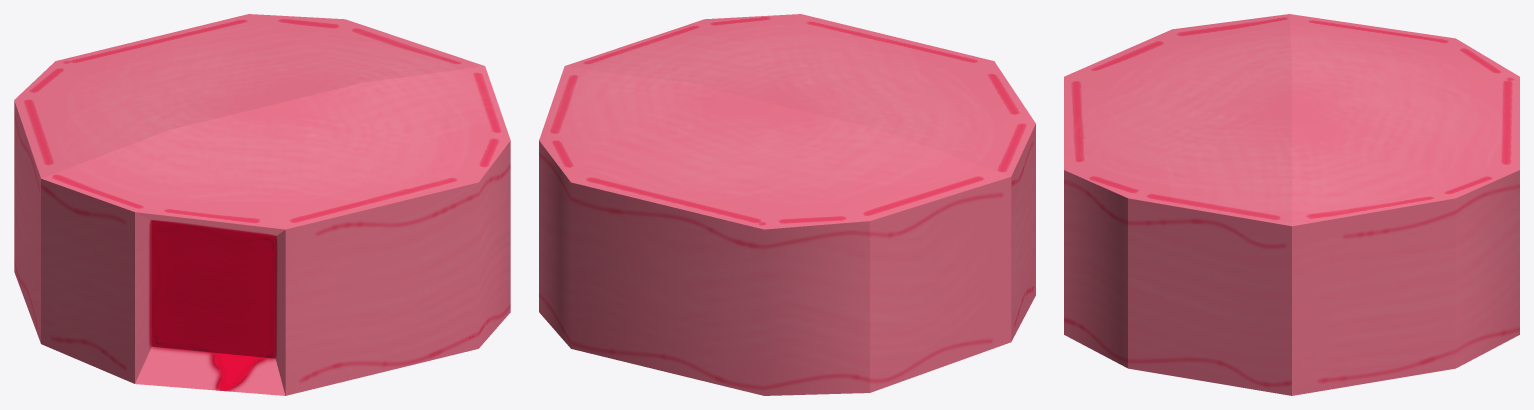
Rendered from BiriBOM.fbx.
The picture shows the model from 3 angles, left to right: view 1: azimuth 30°, elevation 25°; view 2: azimuth 150°, elevation 25°; view 3: azimuth 270°, elevation 25°; orthographic projection.
Parts seen in each view (by area): view 1: pasted__pCylinder7; view 2: pasted__pCylinder7; view 3: pasted__pCylinder7.
Part boxes in pixels (x1,y1,x2,y2): pasted__pCylinder7: (14, 14, 510, 395); pasted__pCylinder7: (539, 14, 1035, 395); pasted__pCylinder7: (1064, 14, 1519, 395).
Size of the model in its own units: 29.61 by 12.56 by 26.49.
1 material, 1 textured.
